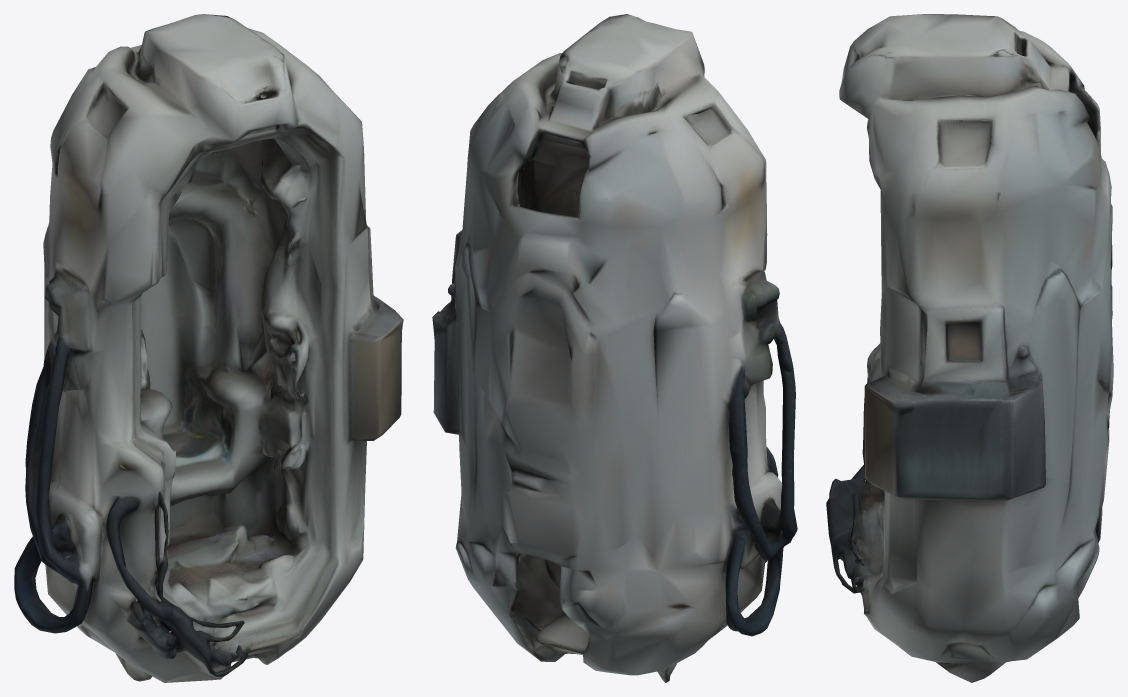
The model's file is Meshy_AI_Breached_Containment_source.glb.
3 renders of one model, left to right at view 1: azimuth 30°, elevation 25°; view 2: azimuth 150°, elevation 25°; view 3: azimuth 270°, elevation 25°, orthographic. The views are drawn at different scales.
Bounding box in the file's own units: 1.12 × 2 × 0.8411.
Materials: 1 (1 with a texture image).
